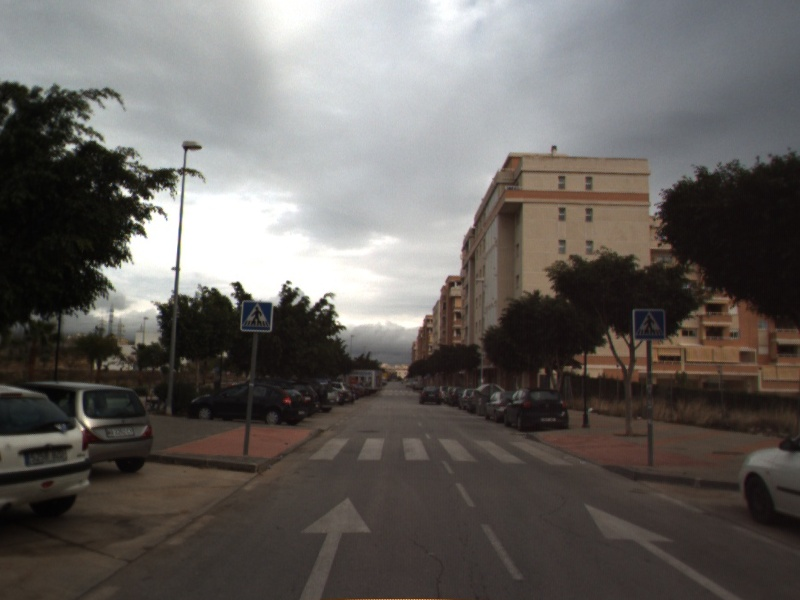STRAIGHT: (582, 502, 747, 600), (296, 495, 374, 600)
